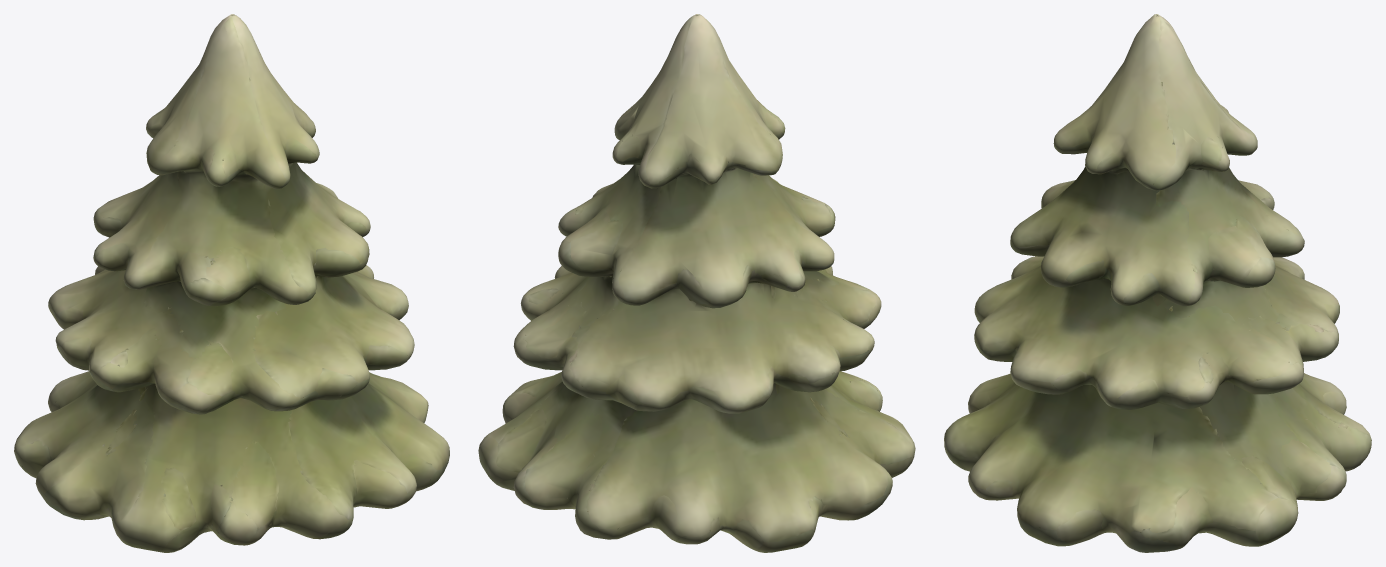
File: Copa_Tiered_Evergreen.glb
3 views of the same model, side by side, from view 1: azimuth 30°, elevation 25°; view 2: azimuth 150°, elevation 25°; view 3: azimuth 270°, elevation 25° (orthographic).
Size of the model in its own units: 1.68 by 2 by 1.67.
Materials: 1 (1 with a texture image).
